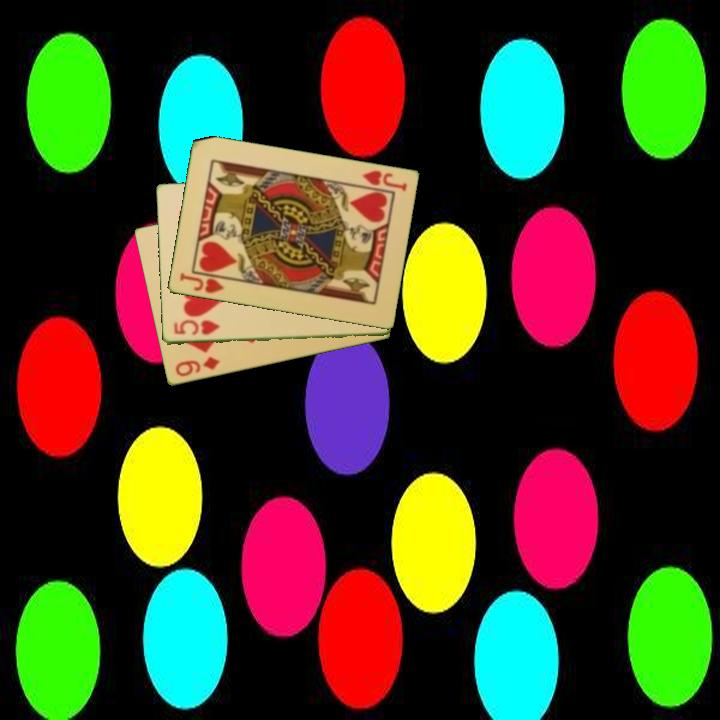5h: (170, 317, 223, 338)
9d: (172, 353, 222, 380)
Jh: (176, 269, 227, 297), (359, 167, 409, 194)
